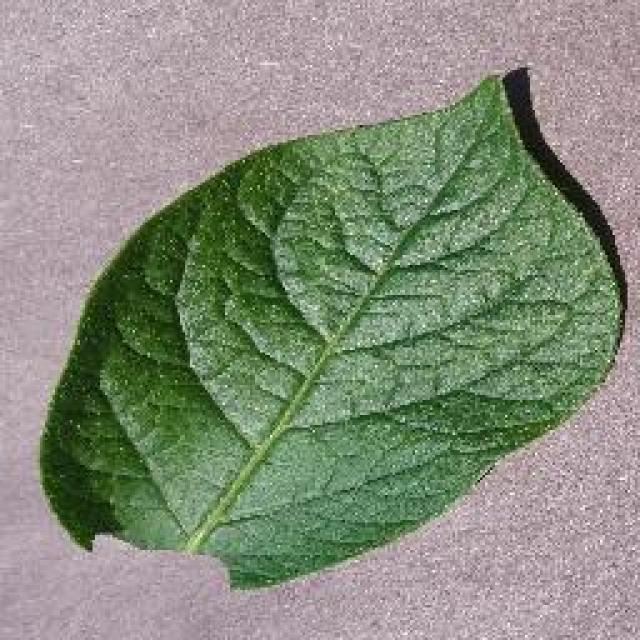Potato___healthy: (32, 73, 627, 597)
